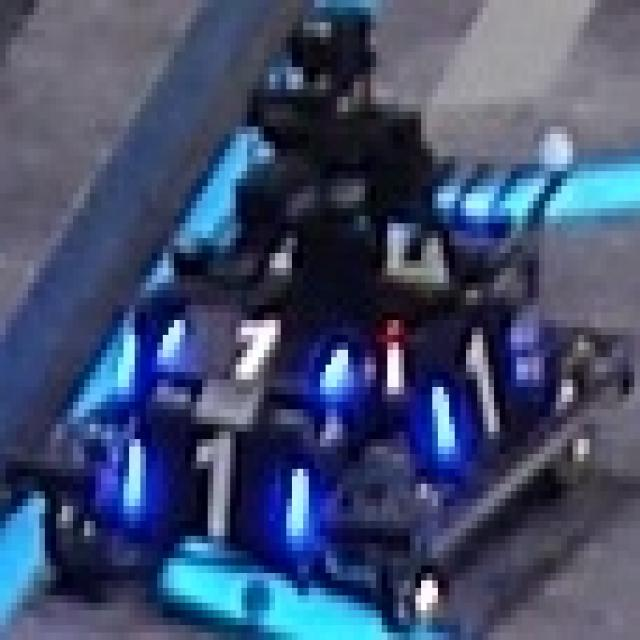B1: (112, 417, 320, 543), (146, 298, 365, 394), (432, 313, 528, 462)
